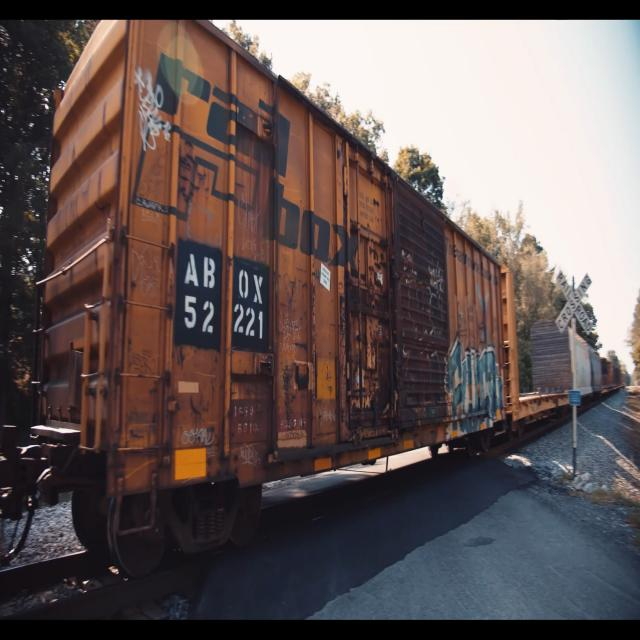flatcar_bulkhead: (500, 260, 575, 443)
locomotive: (25, 24, 498, 592)
